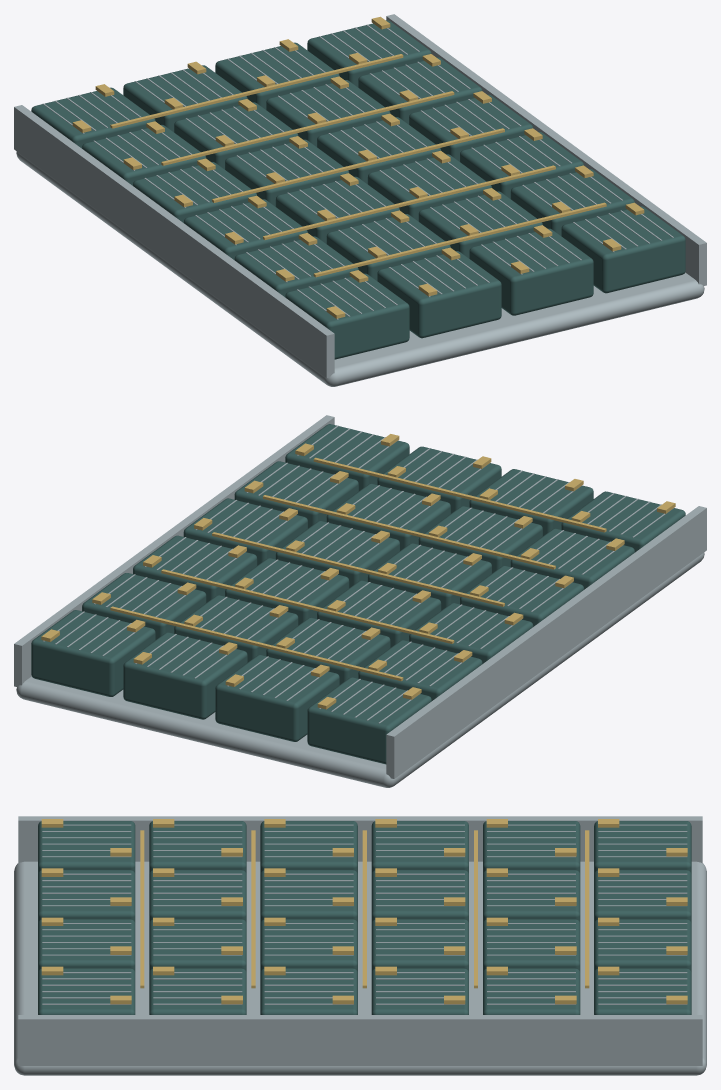
Rendered from pack.glb.
3 views of the same model, one above another, from view 1: azimuth 30°, elevation 25°; view 2: azimuth 150°, elevation 25°; view 3: azimuth 270°, elevation 25° (orthographic). The views are drawn at different scales.
Parts seen in each view (by area): view 1: Barak_pack; view 2: Barak_pack; view 3: Barak_pack.
Boxes of the visible parts, x1,y1,x2,y2 form: Barak_pack: (14,14,706,386); Barak_pack: (14,415,706,787); Barak_pack: (14,816,706,1075).
Size of the model in its own units: 5.62 by 0.9025 by 8.1.
